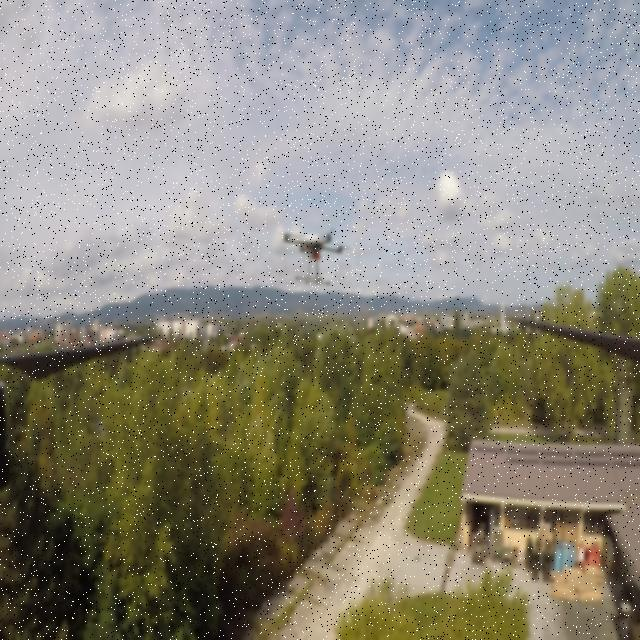UAV: (272, 221, 356, 289)
